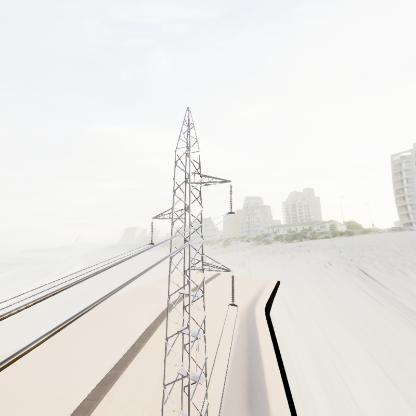tower: (145, 106, 241, 416)
